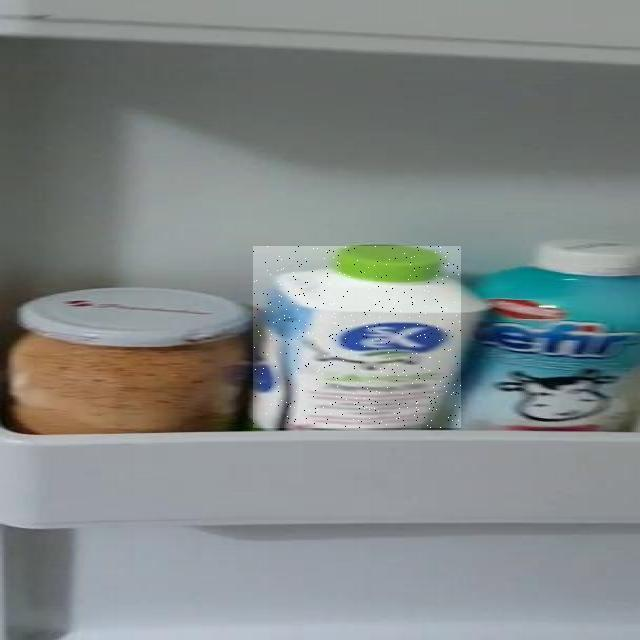milk: (22, 214, 484, 640)
